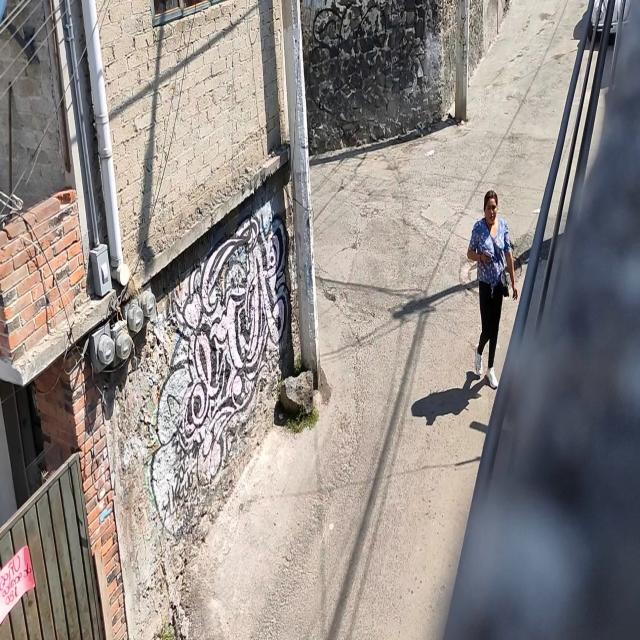adult: (466, 190, 520, 392)
